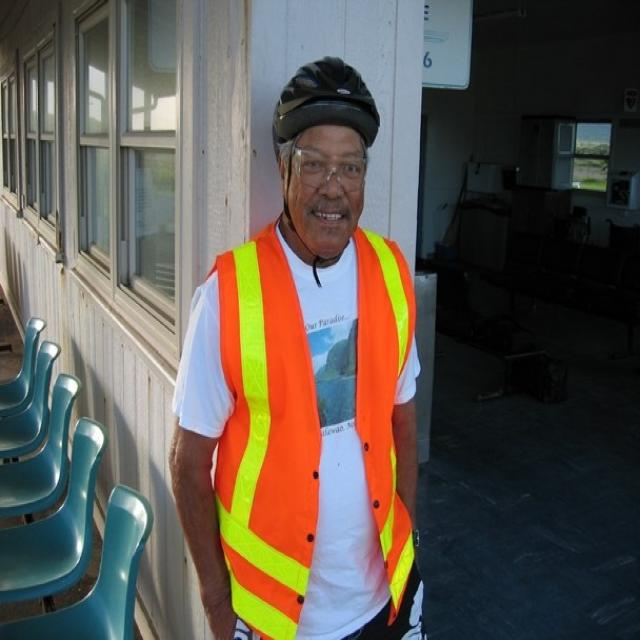Reflective-Jacket: (207, 227, 417, 626)
